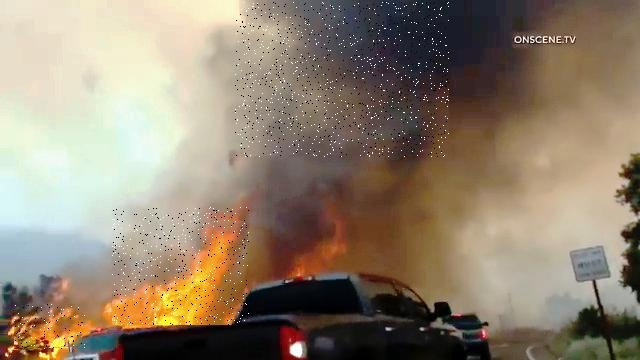fire: (112, 207, 249, 325), (14, 304, 85, 349)
smoke: (235, 2, 449, 157)
